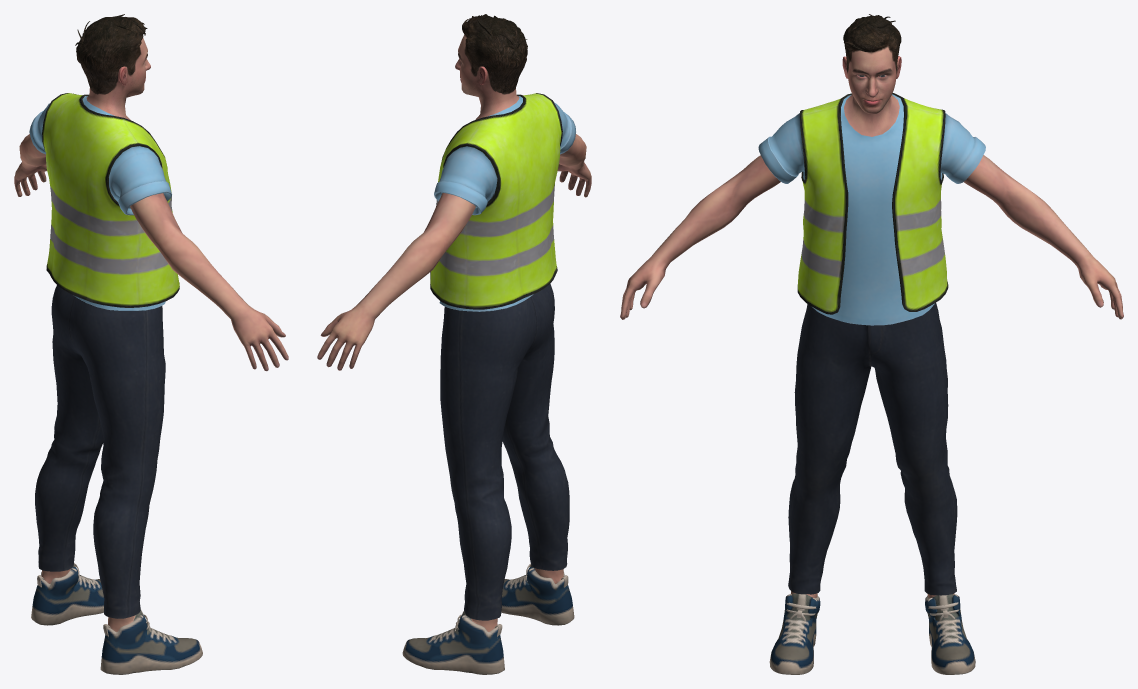
Rendered from sm_workerman_web.fbx.
3 views of the same model, side by side, from view 1: azimuth 30°, elevation 25°; view 2: azimuth 150°, elevation 25°; view 3: azimuth 270°, elevation 25° (orthographic). The views are drawn at different scales.
Visible parts, largest first — view 1: sm_workerman_web; view 2: sm_workerman_web; view 3: sm_workerman_web.
Boxes of the visible parts, x1,y1,x2,y2 form: sm_workerman_web: (14,14,288,674); sm_workerman_web: (317,14,591,674); sm_workerman_web: (620,14,1123,674).
Bounding box in the file's own units: 0.3498 × 1.82 × 1.3.
Materials: 4 (4 with a texture image).
